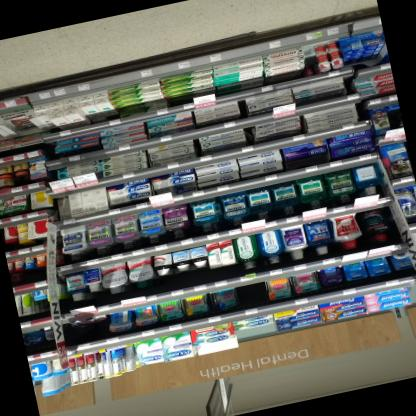empty_space: (65, 314, 110, 346), (233, 281, 269, 311)
